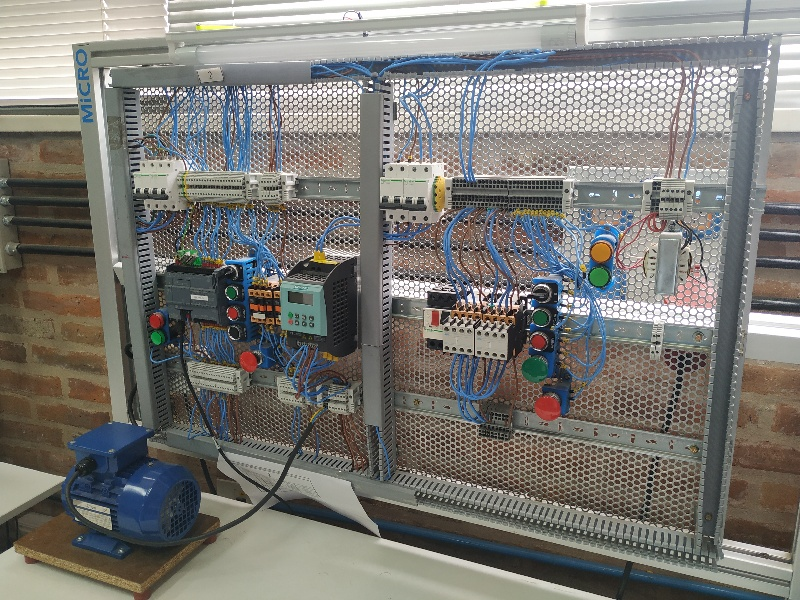Tablero 2: (105, 68, 727, 542)
